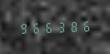eight: (66, 19, 77, 33)
nine: (17, 21, 28, 34)
six: (29, 20, 40, 34), (42, 20, 53, 34), (78, 19, 89, 32)
three: (54, 20, 65, 33)
